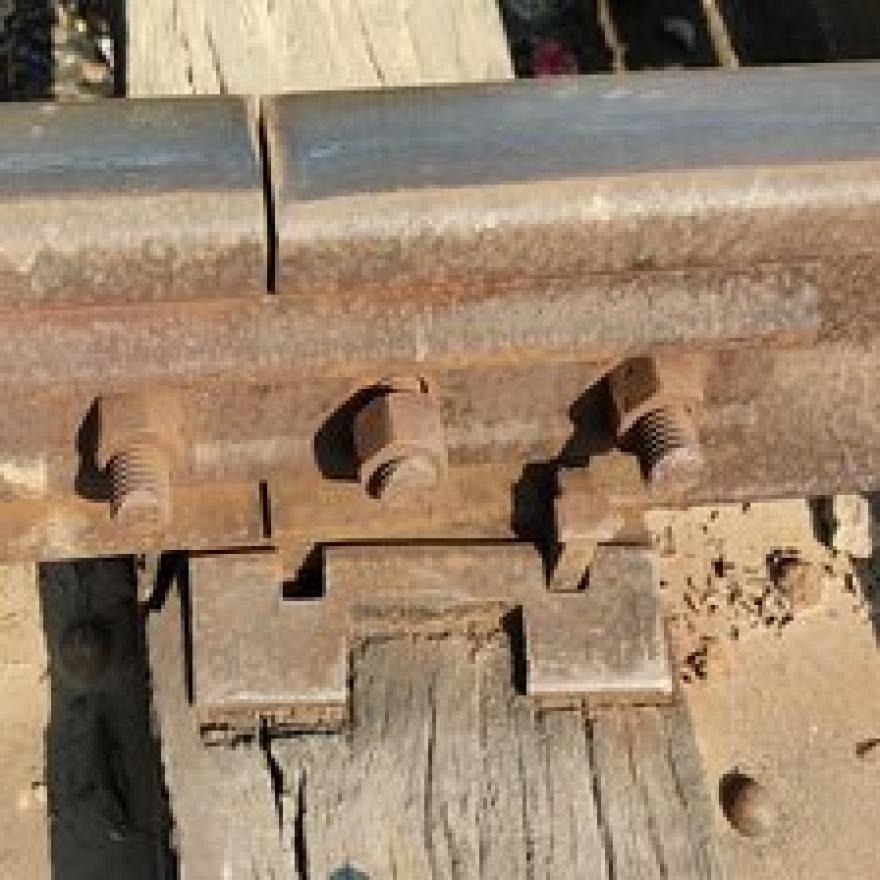railway-gap: (113, 28, 430, 344), (219, 463, 311, 552)
